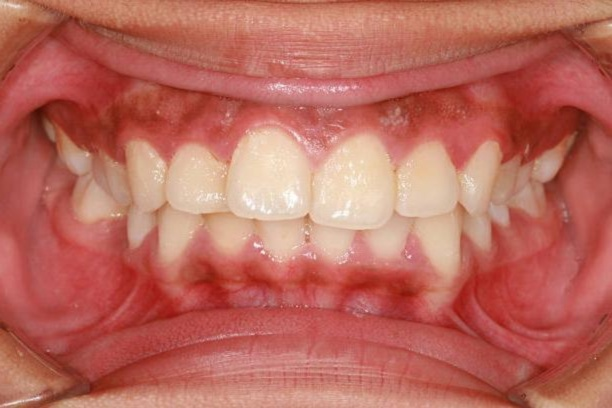Gingivitis: (146, 255, 412, 302), (67, 94, 231, 148), (372, 88, 480, 134)
